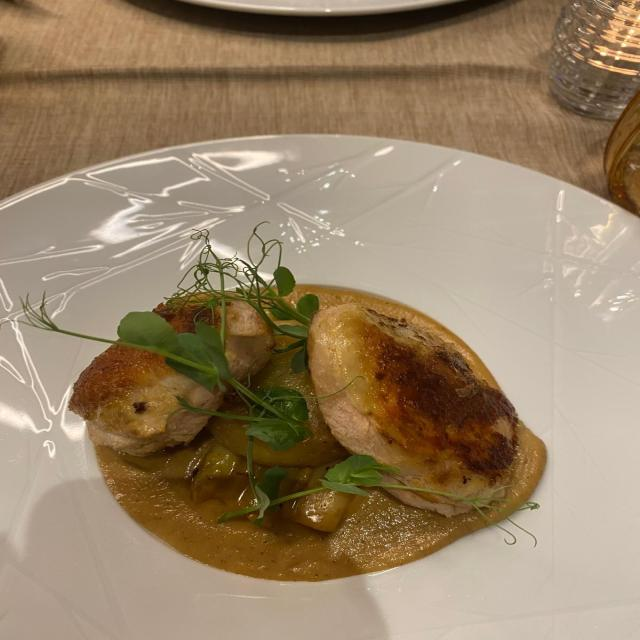baked potatoes: (98, 419, 254, 520), (252, 401, 368, 532)
chicken: (309, 300, 519, 496), (68, 346, 225, 456), (225, 300, 275, 381)
garbage: (21, 226, 319, 515), (320, 455, 382, 494)
plate: (0, 135, 639, 640)
